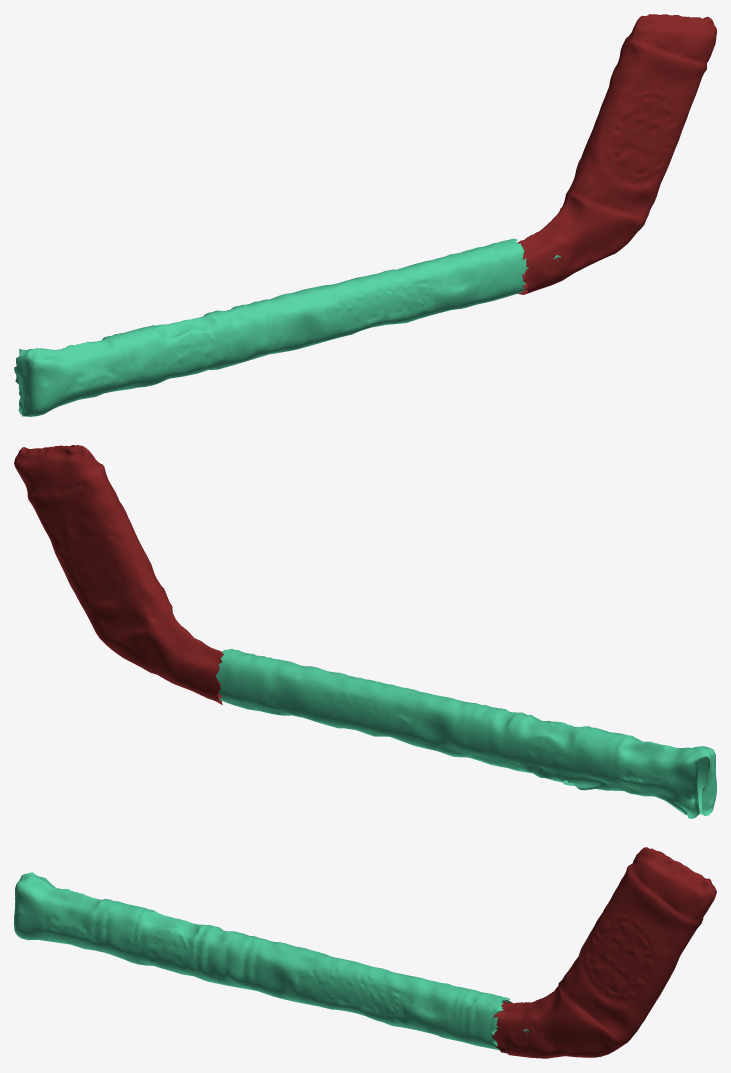
File: object_deformed_4.obj
3 renders of one model, top to bottom at view 1: azimuth 30°, elevation 25°; view 2: azimuth 150°, elevation 25°; view 3: azimuth 330°, elevation 25°, orthographic. The views are drawn at different scales.
Bounding box in the file's own units: 0.5827 × 0.1879 × 0.0504.
